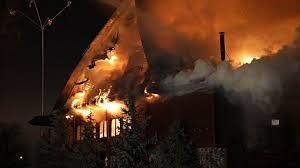fire: (69, 81, 129, 119), (233, 48, 259, 66), (103, 48, 119, 66), (142, 86, 160, 98)
